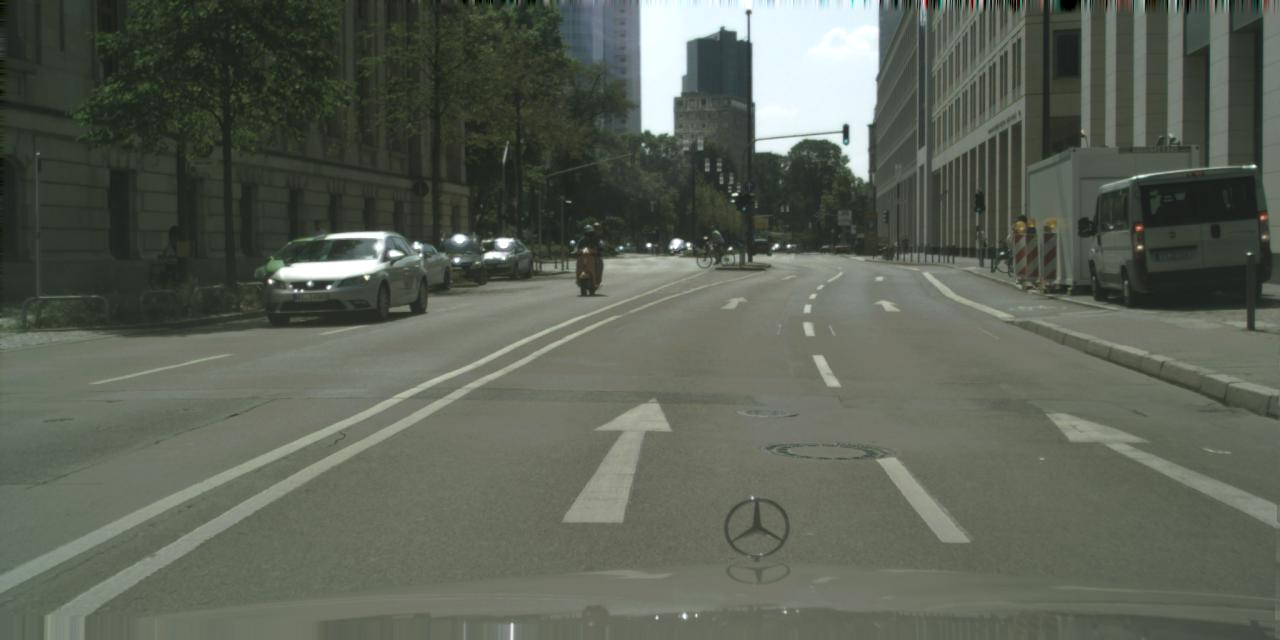ped: (304, 220, 334, 290), (1008, 213, 1033, 275), (576, 224, 598, 280), (707, 226, 722, 263), (972, 225, 986, 258), (898, 235, 905, 253), (901, 234, 908, 252)
